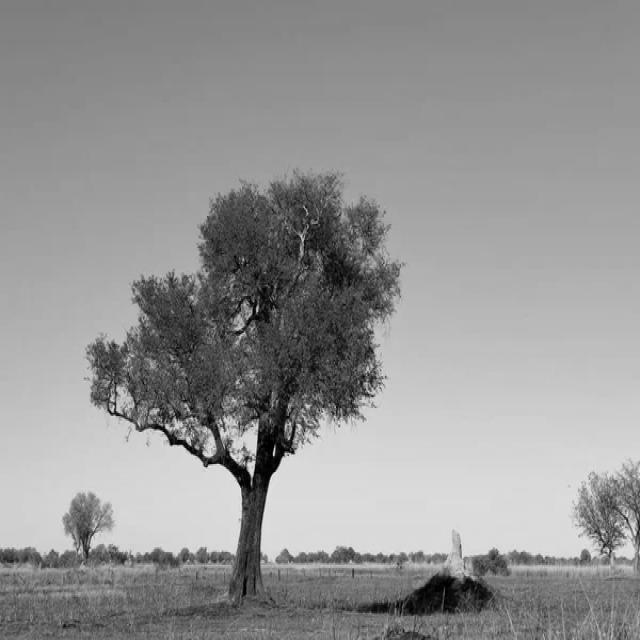Tree: (86, 171, 401, 606), (574, 461, 640, 575), (62, 493, 114, 562)
